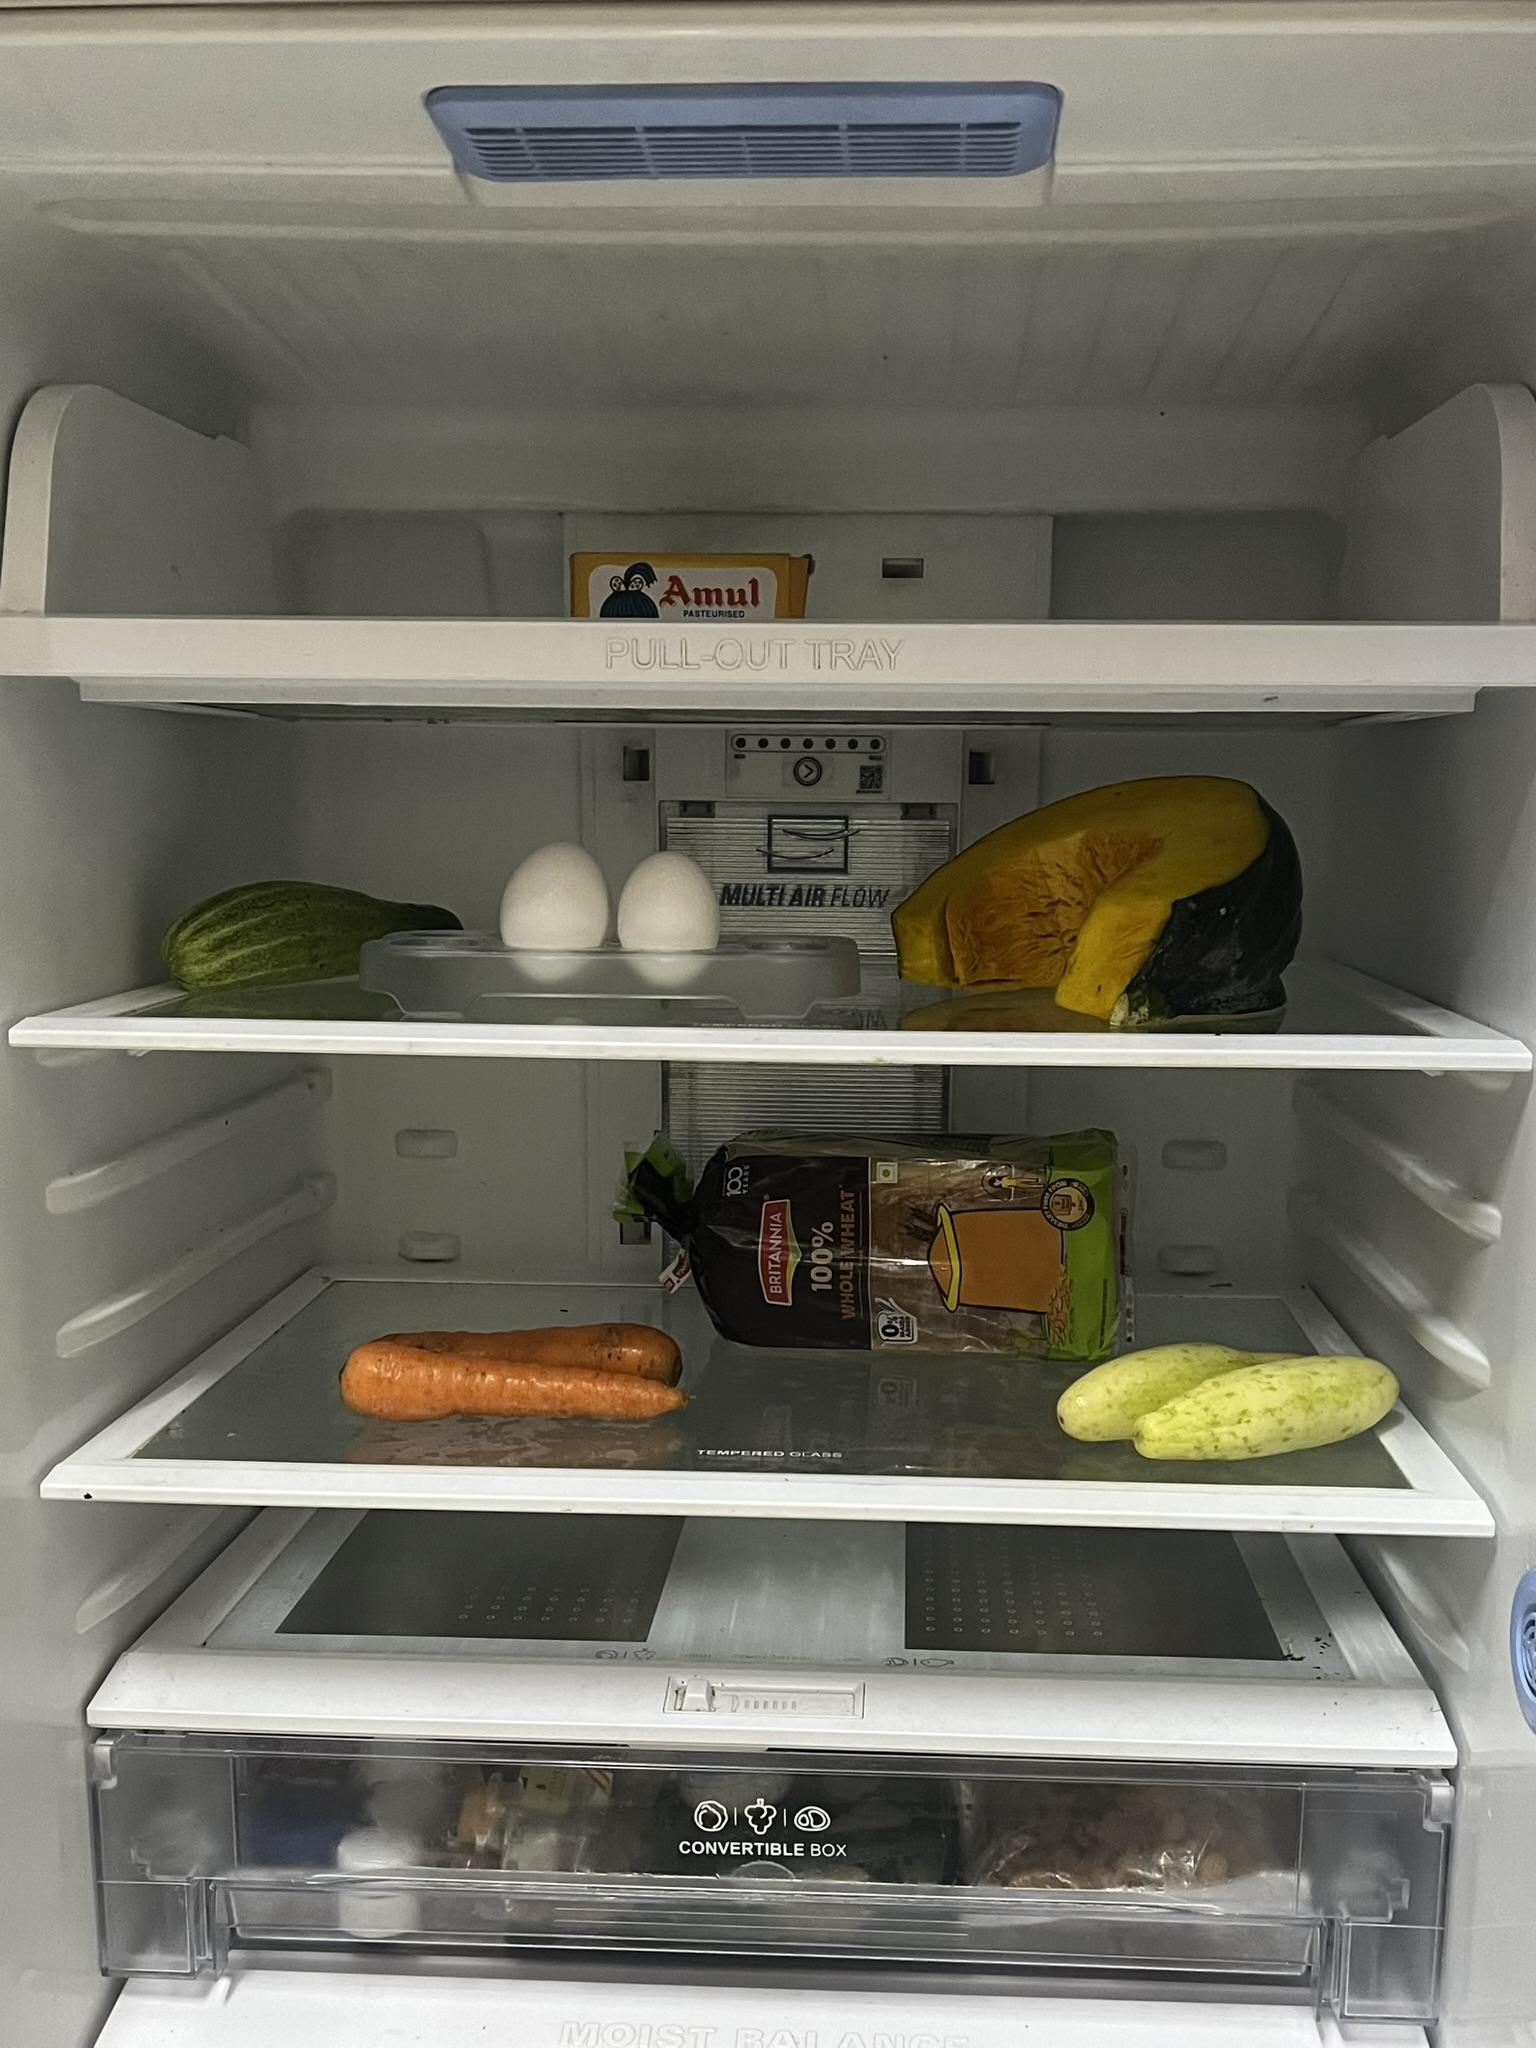bread: (641, 1137, 1123, 1359)
butter: (570, 556, 803, 624)
carrots: (340, 1327, 687, 1421)
cucumber: (1054, 1340, 1410, 1463), (160, 893, 463, 1013)
egg: (503, 834, 713, 966)
pumpkin: (873, 766, 1313, 1024)
